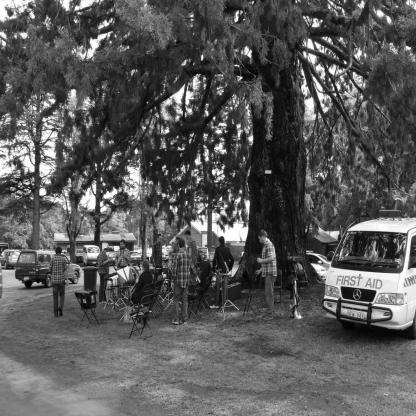ambulance: (323, 214, 416, 350)
